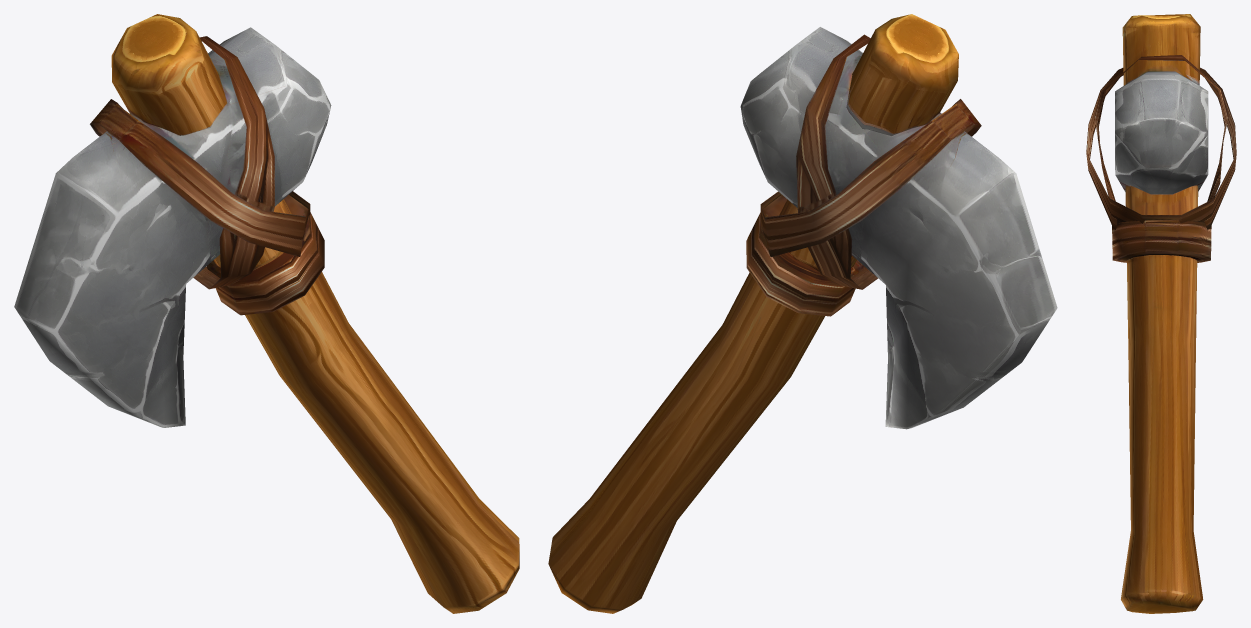
The model's file is Meshy_AI_Leather_Bound_Stone_A_0714132805_texture.fbx.
3 renders of one model, left to right at view 1: azimuth 30°, elevation 25°; view 2: azimuth 150°, elevation 25°; view 3: azimuth 270°, elevation 25°, orthographic. The views are drawn at different scales.
Visible parts, largest first — view 1: Mesh_0; view 2: Mesh_0; view 3: Mesh_0.
Part boxes in pixels (bbox=[...]): Mesh_0: bbox=[14, 14, 519, 613]; Mesh_0: bbox=[548, 14, 1057, 613]; Mesh_0: bbox=[1086, 14, 1236, 613].
Size of the model in its own units: 80.27 by 100 by 27.44.
1 material, 1 textured.
